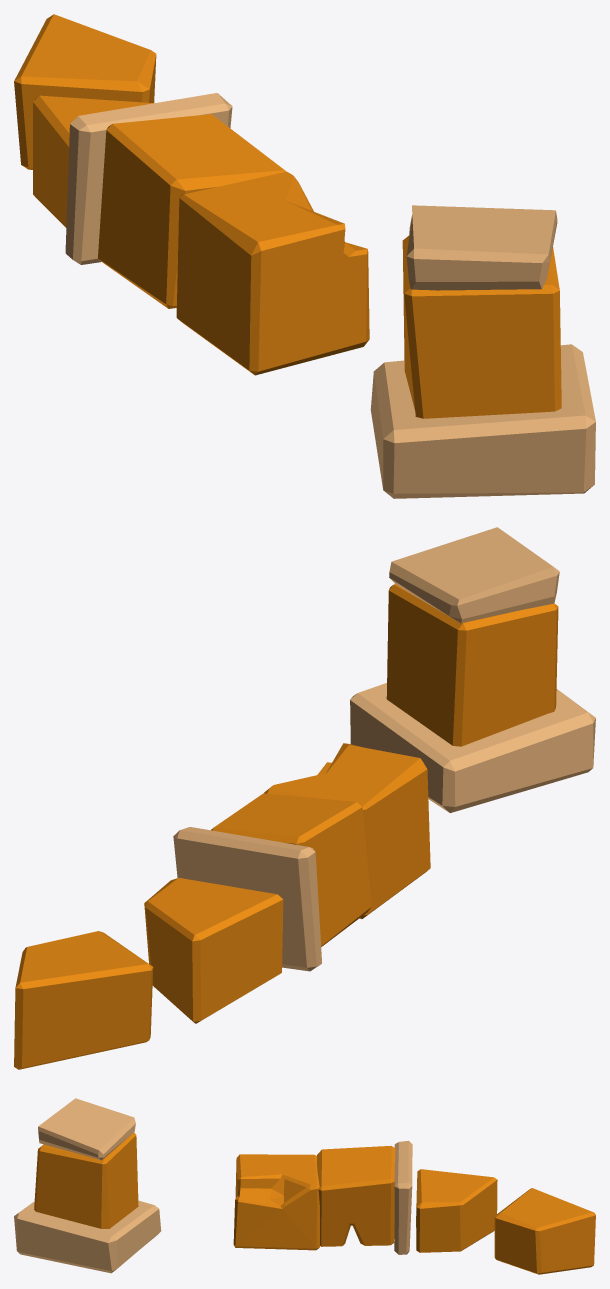
The model's file is Columna_base_y_caida.fbx.
3 renders of one model, top to bottom at view 1: azimuth 30°, elevation 25°; view 2: azimuth 150°, elevation 25°; view 3: azimuth 270°, elevation 25°, orthographic. The views are drawn at different scales.
Visible parts, largest first — view 1: Columna.007, Columna.010; view 2: Columna.007, Columna.010; view 3: Columna.007, Columna.010.
Part boxes in pixels (box(x1,y1,x2,y2)): Columna.007: box(14, 14, 369, 375); Columna.010: box(370, 205, 595, 498); Columna.007: box(14, 743, 430, 1069); Columna.010: box(350, 527, 595, 812); Columna.007: box(233, 1140, 595, 1274); Columna.010: box(14, 1098, 161, 1273).
Size of the model in its own units: 303 by 310 by 1207.
